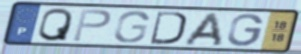A: (181, 11, 224, 48)
D: (148, 10, 188, 46)
G: (226, 12, 266, 48), (113, 10, 152, 44)
P: (70, 8, 112, 43)
Q: (35, 7, 74, 43)
